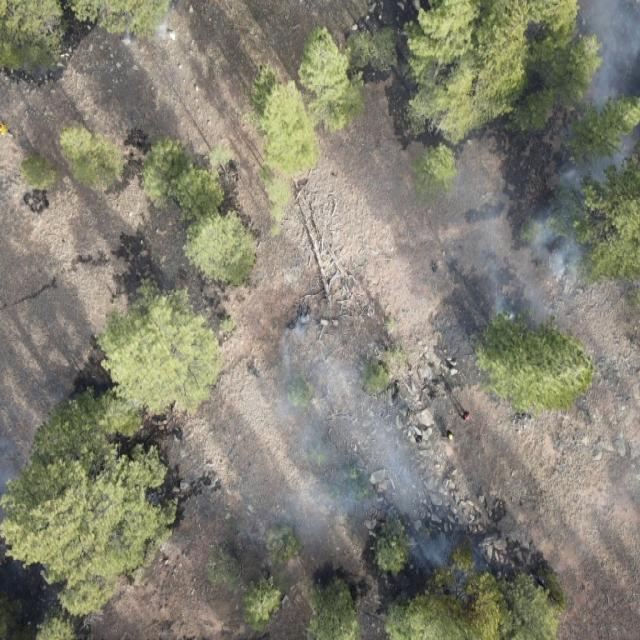smoke: (264, 280, 496, 586), (430, 0, 640, 329), (0, 426, 32, 504), (128, 14, 171, 54)
